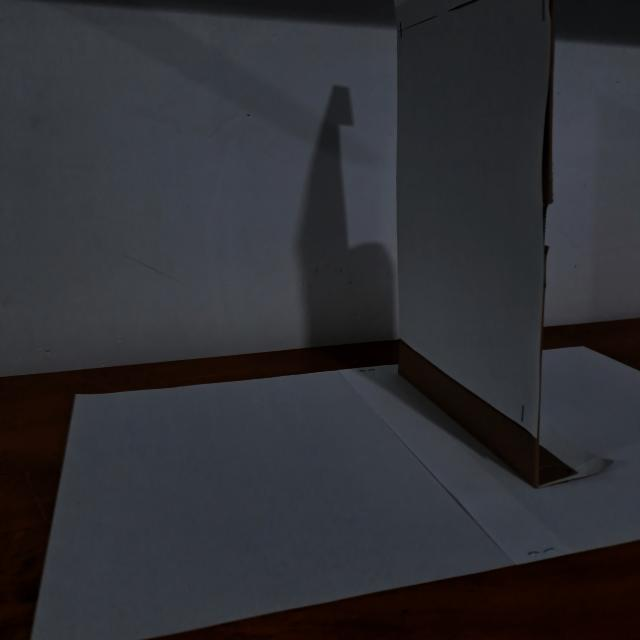wall: (381, 0, 565, 485)
